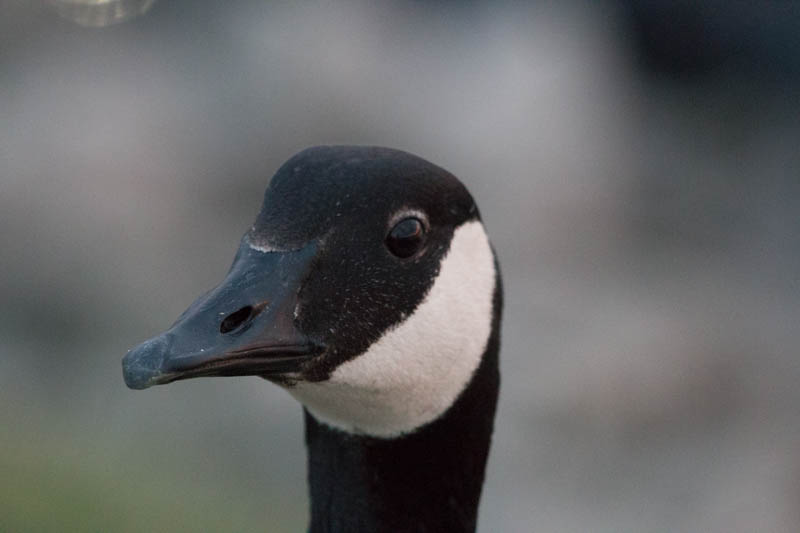goose-head: (120, 145, 503, 443)
